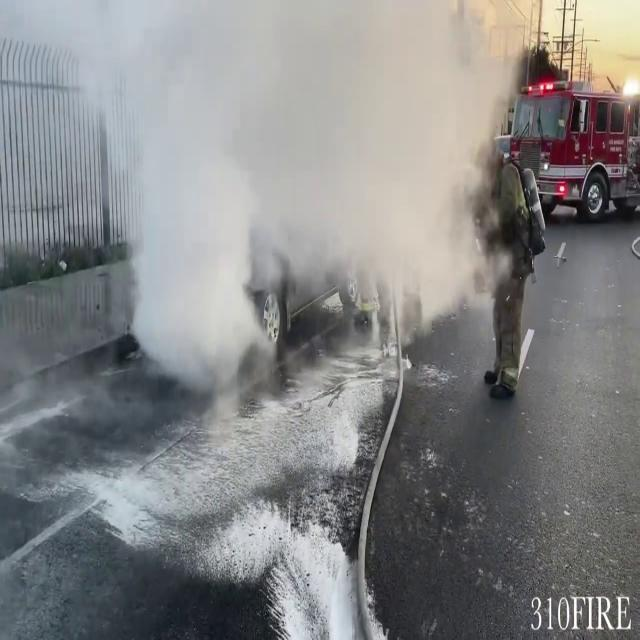Smoke: (78, 0, 536, 361)
